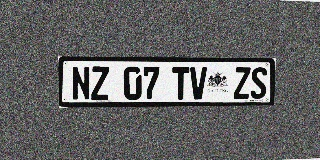0: (124, 66, 141, 100)
7: (142, 67, 160, 100)
N: (71, 66, 90, 100)
S: (250, 67, 267, 99)
T: (172, 67, 189, 100)
V: (190, 67, 207, 99)
Z: (91, 66, 109, 100), (234, 67, 251, 99)
